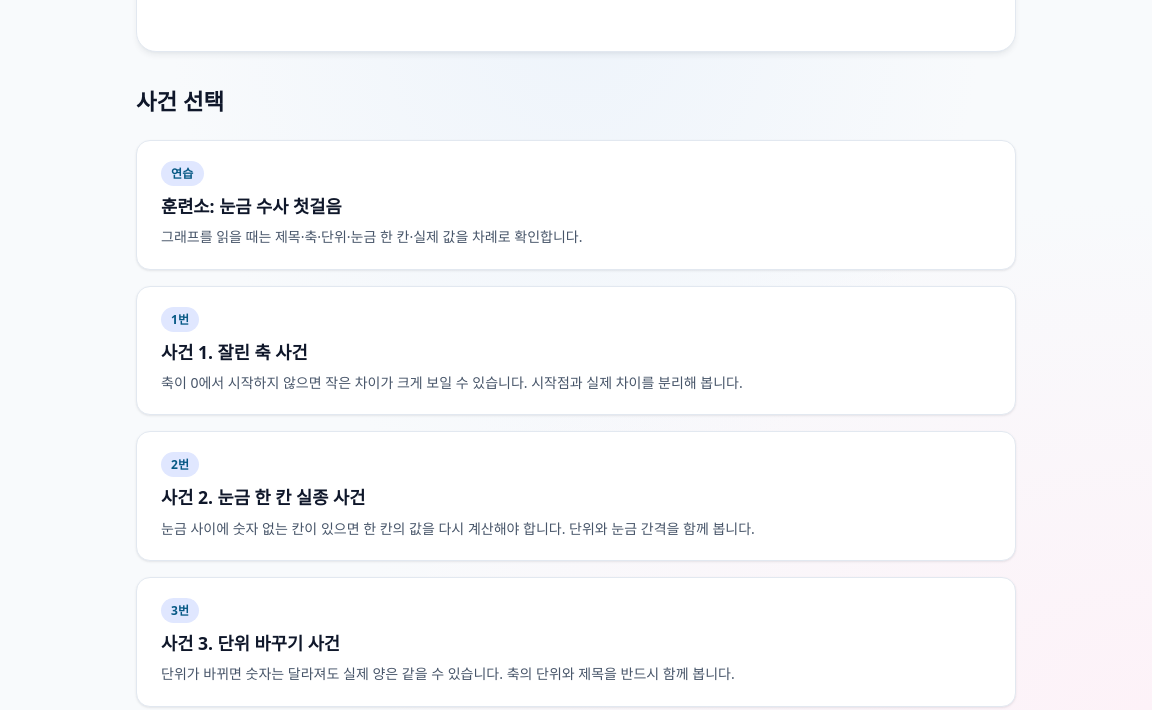
it: observe 단계 선택 게이트 (초등학생 참여 유도) › 그래프를 선택하면 observe 힌트가 완료 상태로 바뀐다
(page scrolled)
Step 1. Click the button "사건 1. 잘린 축 사건" → {"x": 180, "y": 319}, box [136,286,1016,415]
(page scrolled)
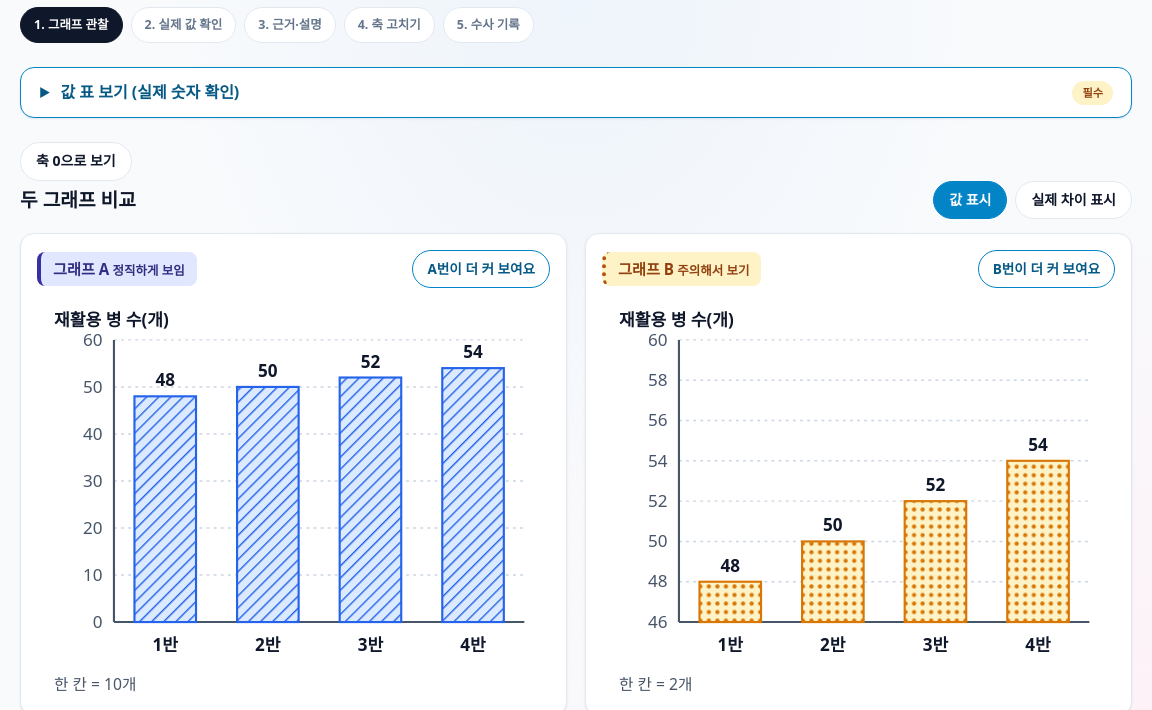
Step 2. Click the button with aria-label "차이가 더 크게 보이는 그래프로 선택" → {"x": 481, "y": 269}, box [412,250,550,288]
(page scrolled)
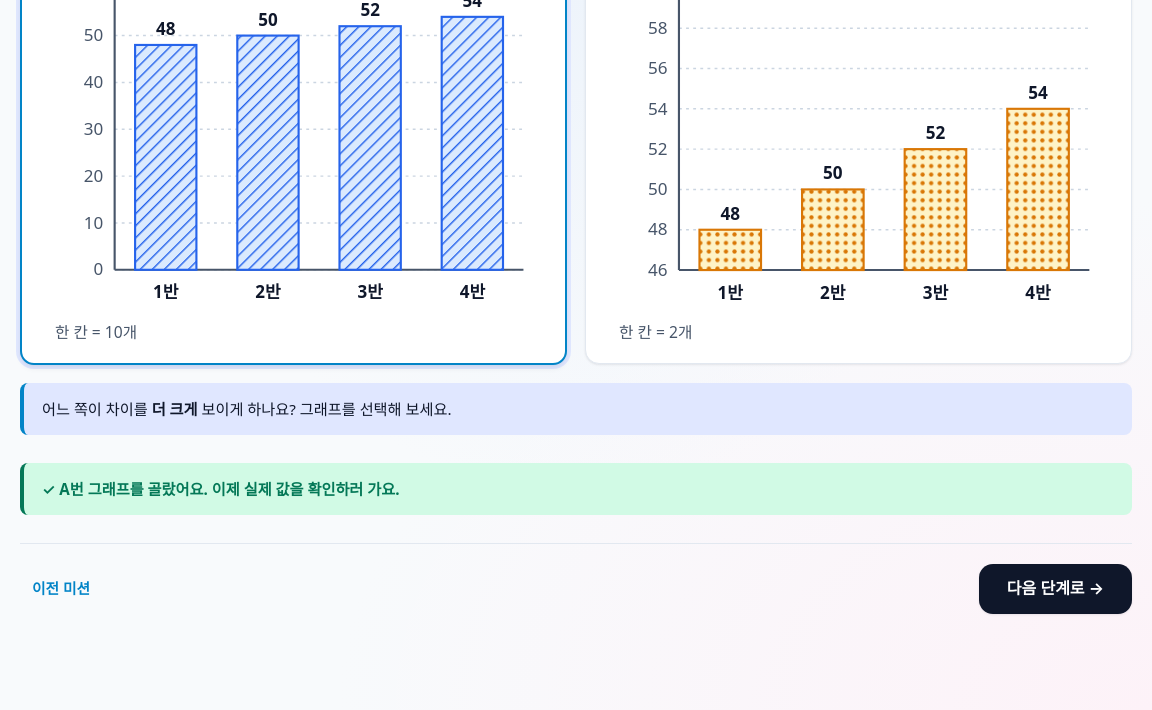
Expected: the text "✓ A번 그래프를 골랐어요. 이제 실제 값을 확인하러 가요." is shown, [20,463,1132,515]
